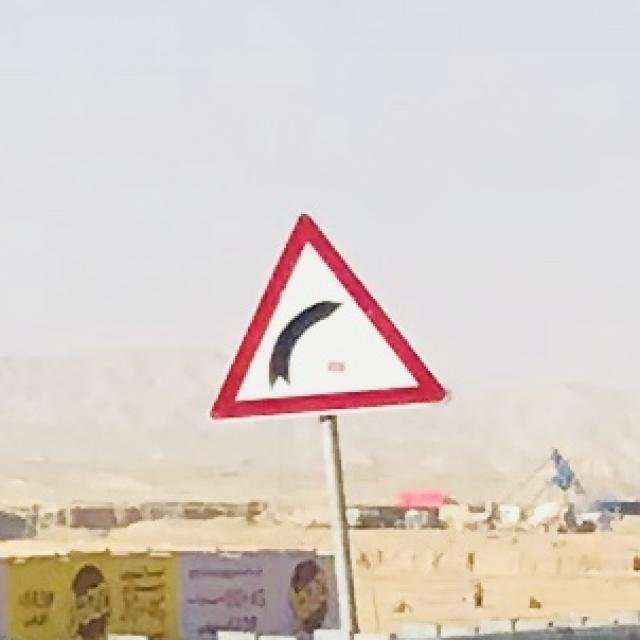right hand curve: (206, 211, 449, 420)
